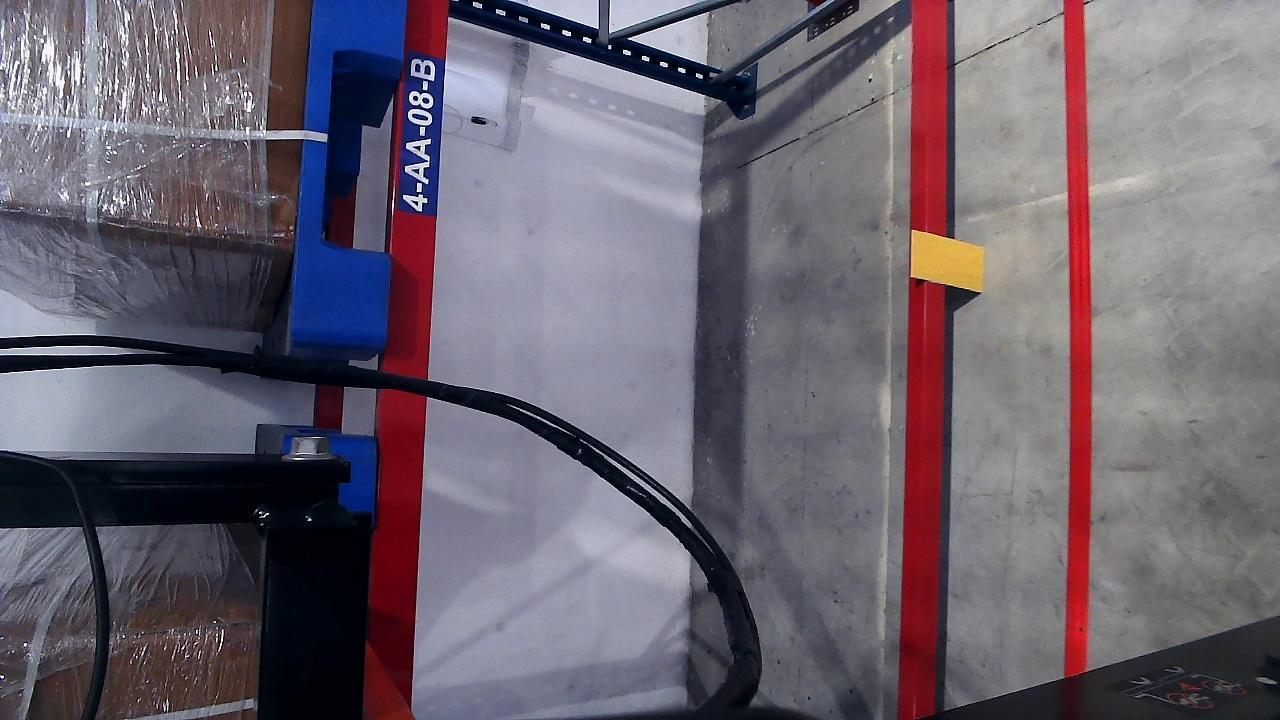red_line: (1062, 0, 1088, 675)
